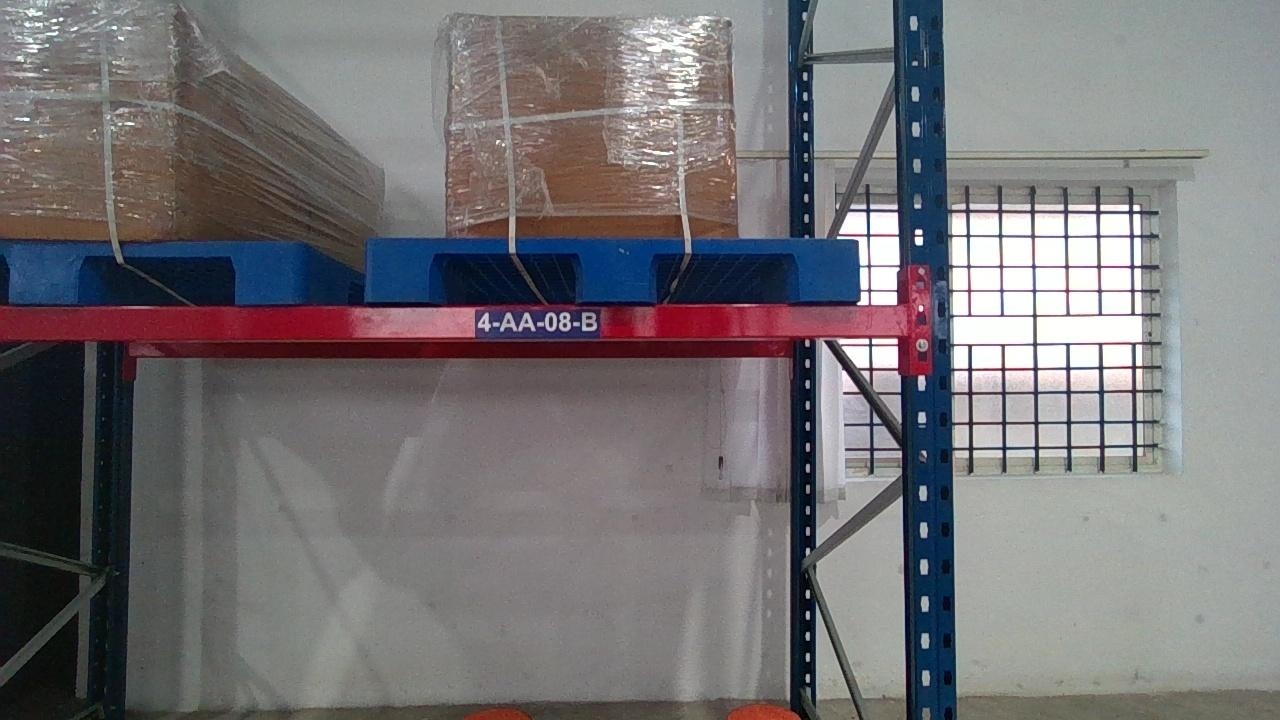small_pallet: (365, 236, 863, 301), (0, 239, 307, 300)
